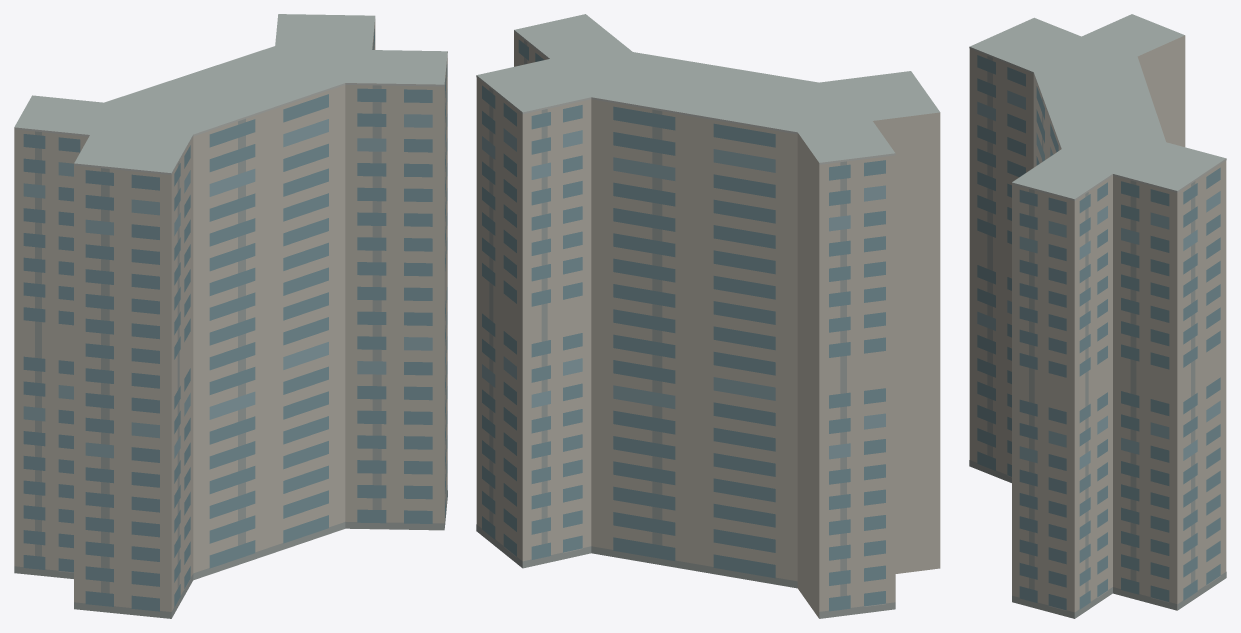
File: residential-d0032678-b0ec-43d5-91b4-c3e3361eec22.glb
3 renders of one model, left to right at view 1: azimuth 30°, elevation 25°; view 2: azimuth 150°, elevation 25°; view 3: azimuth 270°, elevation 25°, orthographic. The views are drawn at different scales.
Visible parts, largest first — view 1: residential-d0032678-b0ec-43d5-91b4-c3e3361eec22.tmp; view 2: residential-d0032678-b0ec-43d5-91b4-c3e3361eec22.tmp; view 3: residential-d0032678-b0ec-43d5-91b4-c3e3361eec22.tmp.
Part boxes in pixels (x1,y1,x2,y2): residential-d0032678-b0ec-43d5-91b4-c3e3361eec22.tmp: [14, 14, 447, 618]; residential-d0032678-b0ec-43d5-91b4-c3e3361eec22.tmp: [476, 14, 940, 618]; residential-d0032678-b0ec-43d5-91b4-c3e3361eec22.tmp: [969, 14, 1226, 618].
Bounding box in the file's own units: 53.02 × 56 × 31.08.
